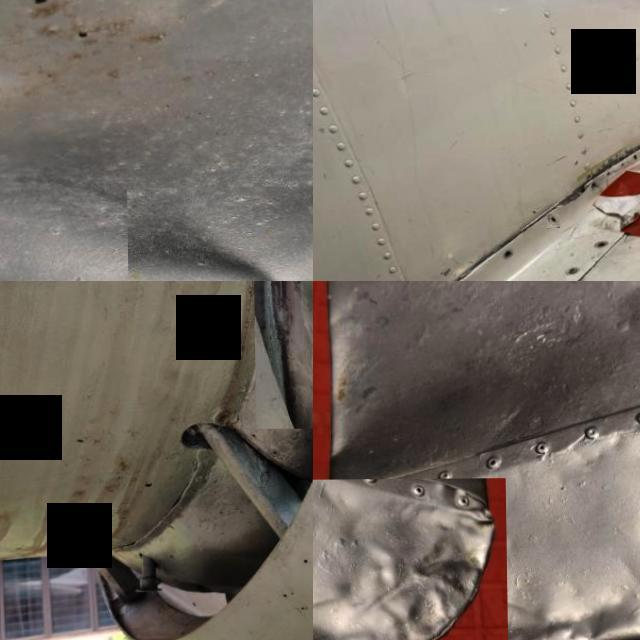Crack: (556, 182, 593, 214)
Dent: (313, 478, 506, 640), (126, 187, 313, 281), (468, 571, 640, 640), (252, 281, 313, 429)
Missing_Fastener: (499, 248, 517, 262), (546, 214, 559, 228), (592, 239, 608, 250)
